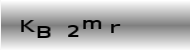2: (65, 23, 81, 39)
B: (37, 24, 51, 38)
K: (20, 18, 36, 33)
m: (81, 18, 102, 29)
r: (109, 22, 122, 35)
